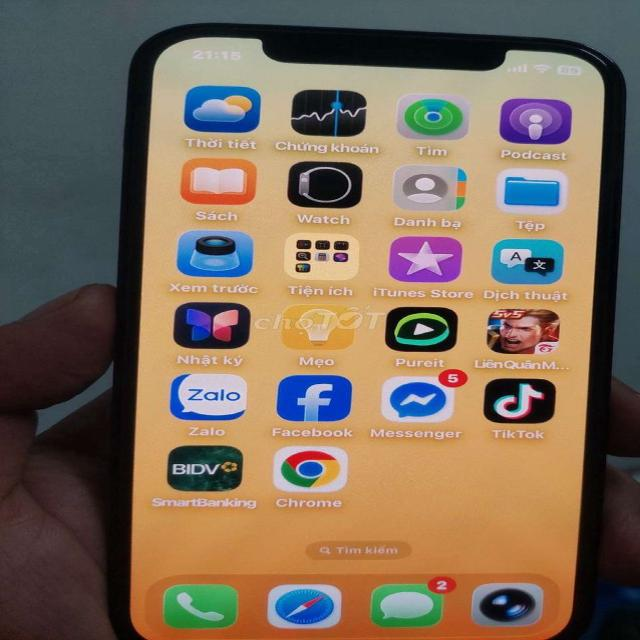gen_12_13: (102, 14, 634, 640)
